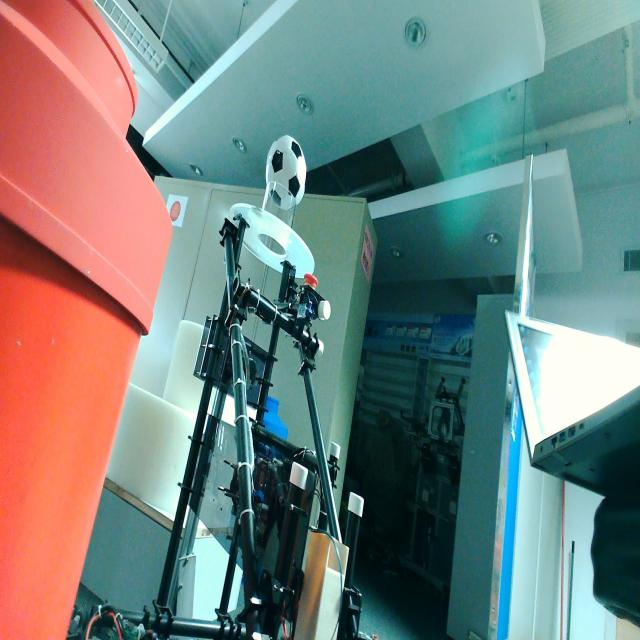ball: (265, 133, 308, 213)
